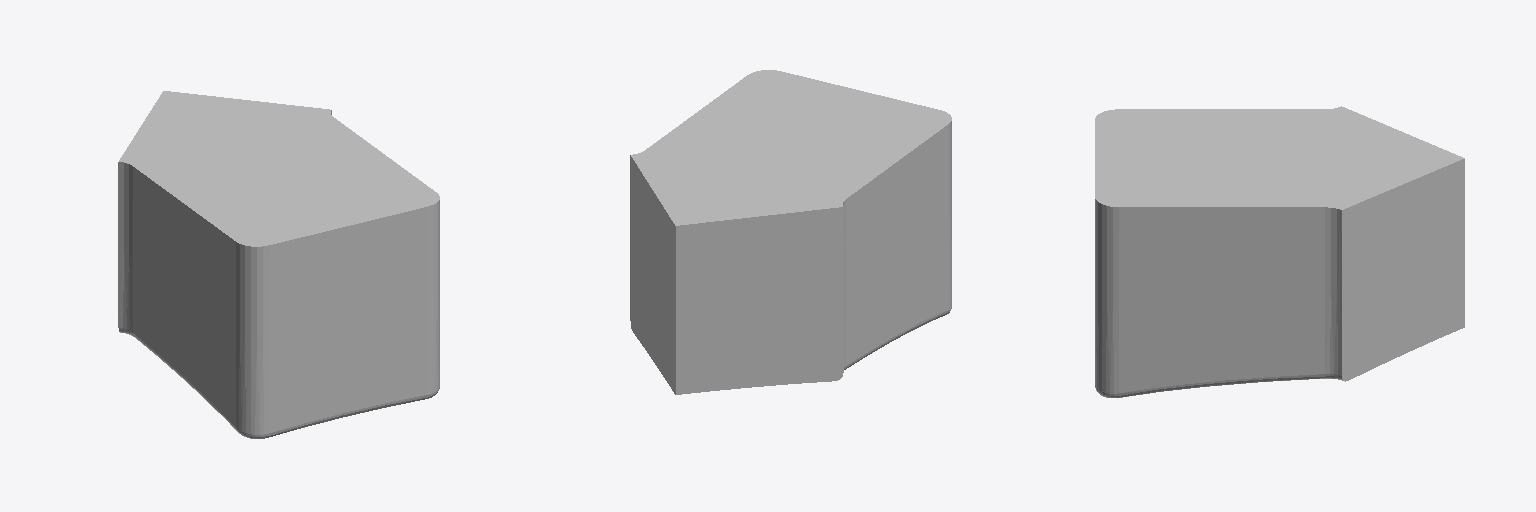
File: DPadUp.obj
3 renders of one model, left to right at view 1: azimuth 30°, elevation 25°; view 2: azimuth 150°, elevation 25°; view 3: azimuth 270°, elevation 25°, orthographic.
Parts seen in each view (by area): view 1: DPadUp; view 2: DPadUp; view 3: DPadUp.
Part boxes in pixels (left/top/right/bottom): DPadUp: left=118, top=91, right=439, bottom=438; DPadUp: left=630, top=70, right=951, bottom=394; DPadUp: left=1095, top=106, right=1464, bottom=397.
Bounding box in the file's own units: 6.15 × 5.39 × 9.25.